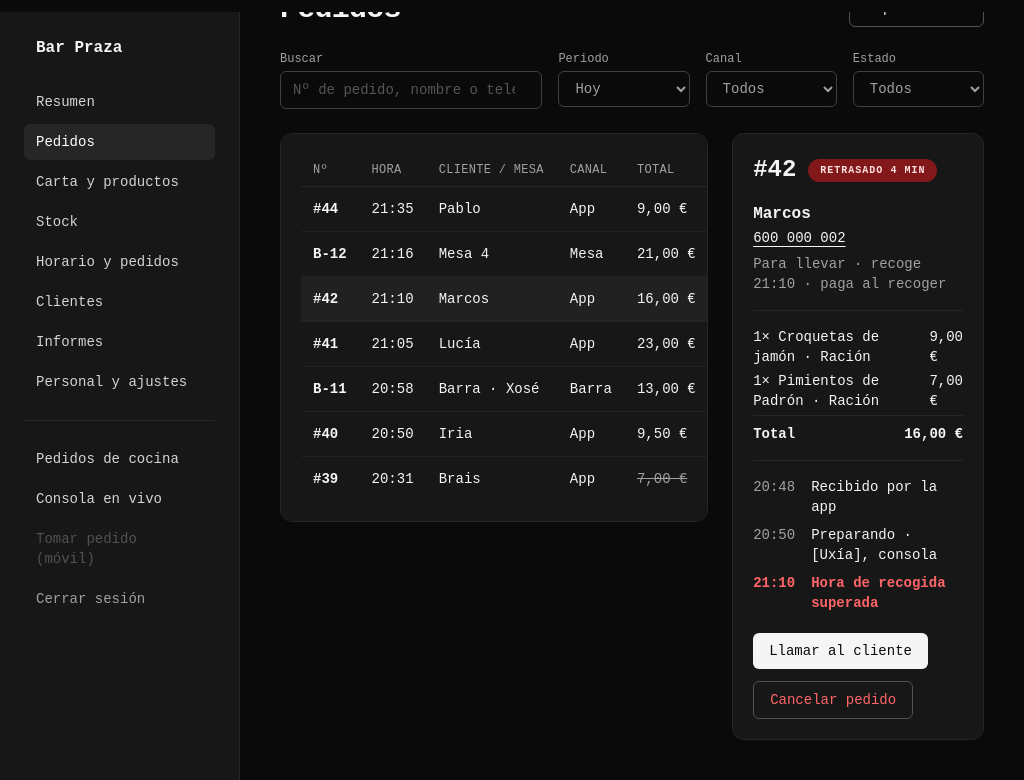
Test: OrdersPage edge cases › tells the user when cancelling fails
The width and height of the screenshot is (1024, 780).
(page scrolled)
Click the button "Cancelar pedido": (833, 700) [753,681,913,719]
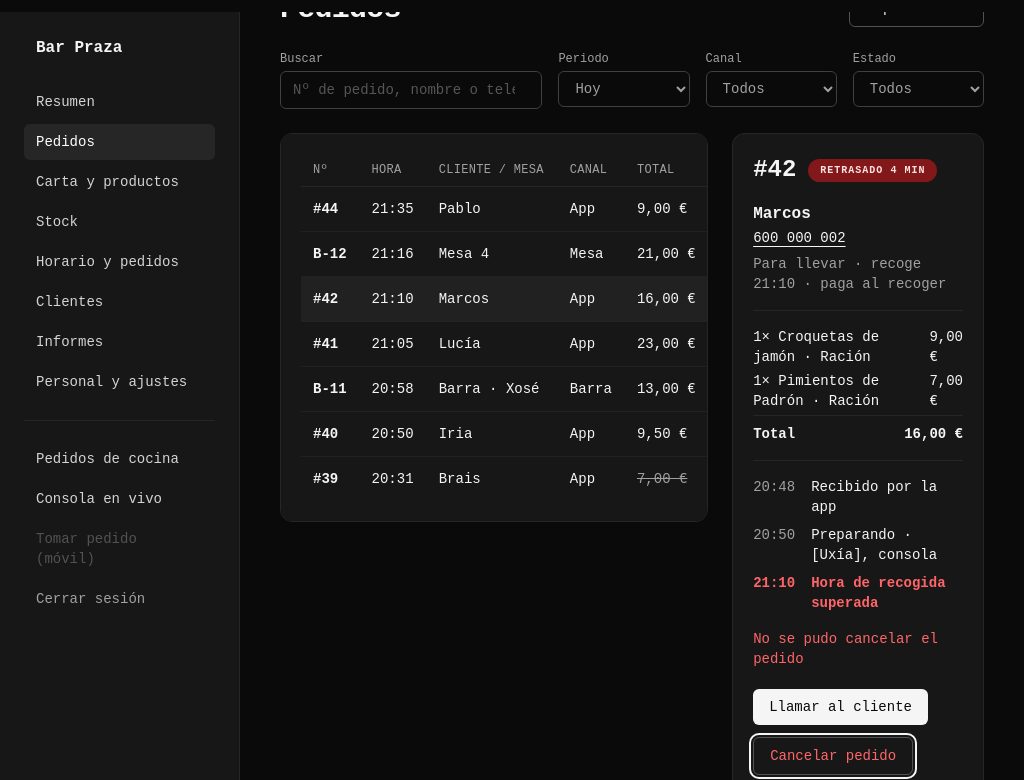
Now the message reads "No se pudo cancelar el pedido", box [753,631,938,667]
